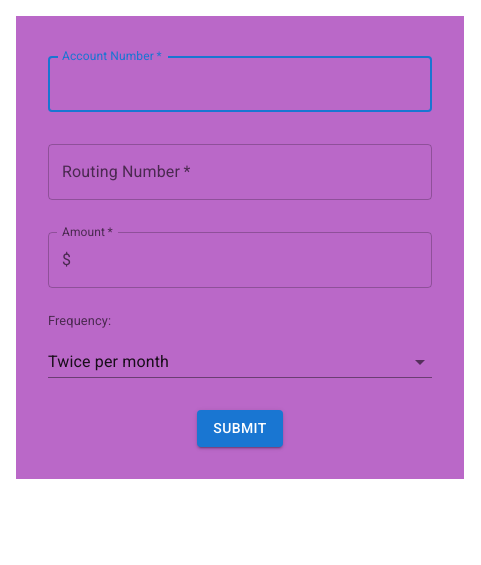
DirectDepositEnrollmentForm › shows error message when amount is invalid
Type "123.0125" into the field labelled "Amount" at x=256, y=260, box [79,232,432,288]
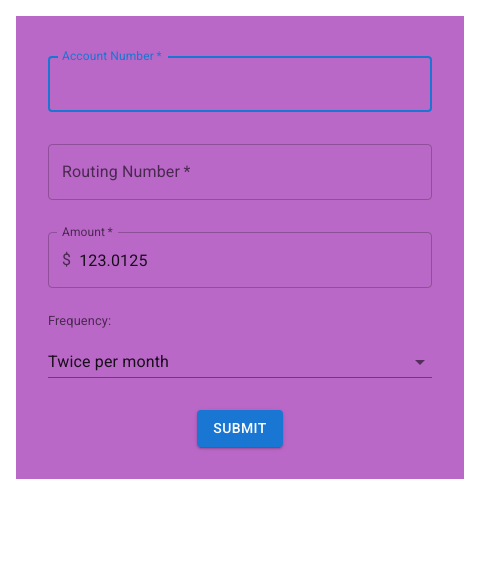
Click the button "Submit" at x=240, y=429, box [197,410,283,447]
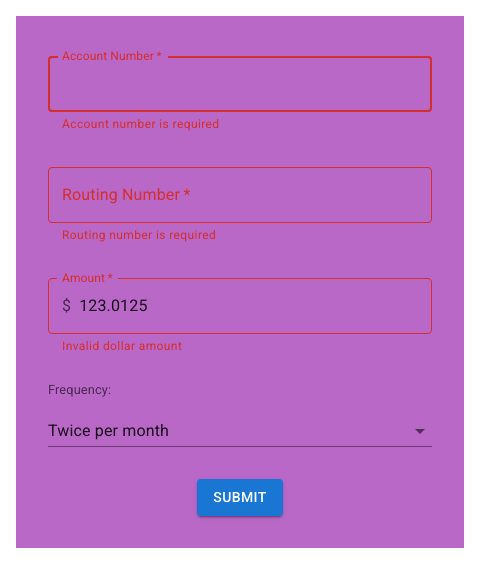
Check: the text "Invalid dollar amount" is shown, box [62,339,182,353]
